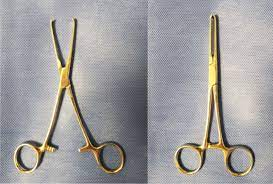tissue clamp: (12, 14, 127, 176), (171, 10, 258, 179)
